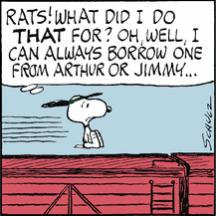snoopy: (41, 92, 112, 148)
